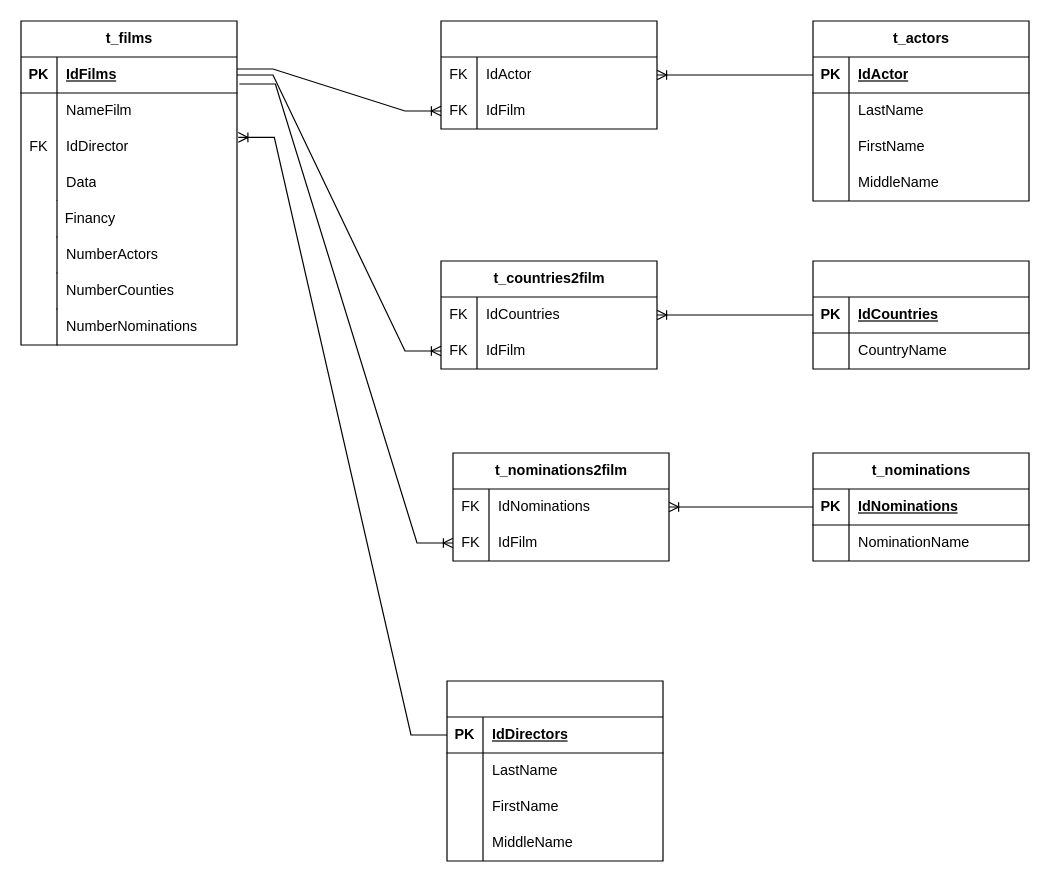
Image size: 1050x882. Some labels were removed from this diagram. Each missing label, with the box of its shape:
t_actors2film: (440, 20, 657, 129)
t_countries: (812, 260, 1029, 369)
t_directors: (446, 680, 663, 861)
